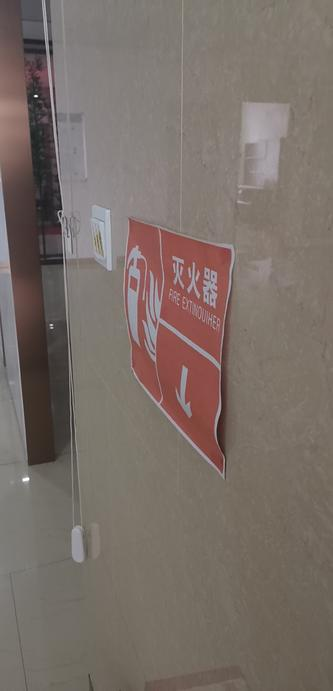switch: (86, 214, 115, 268)
